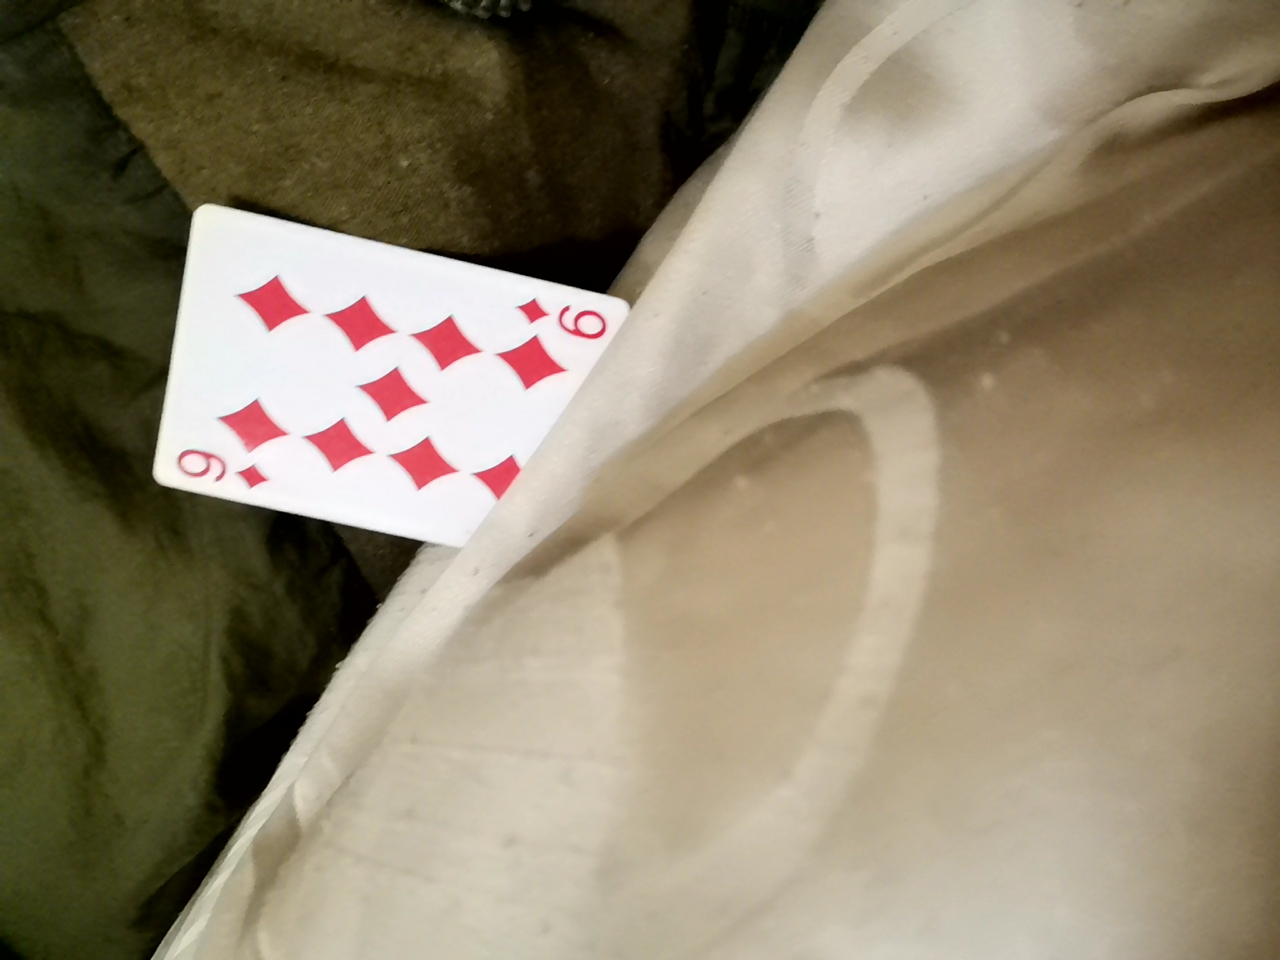fk 9: (119, 244, 645, 579)
